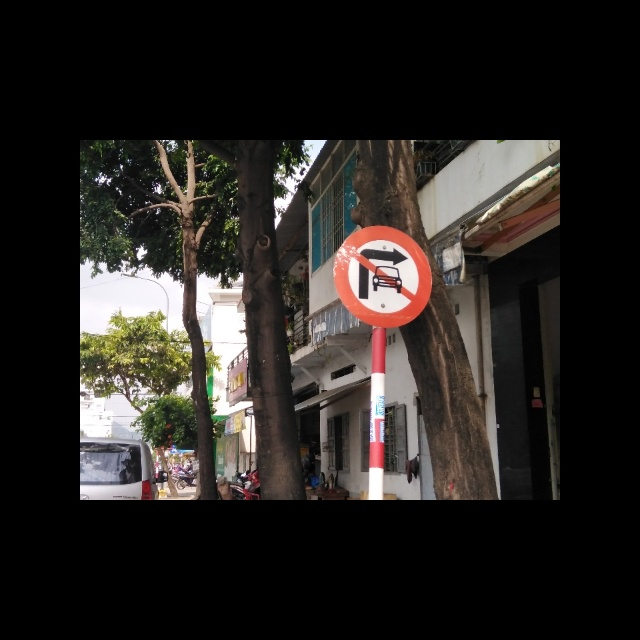Cấm xe ô tô rẽ trái: (329, 226, 432, 330)
